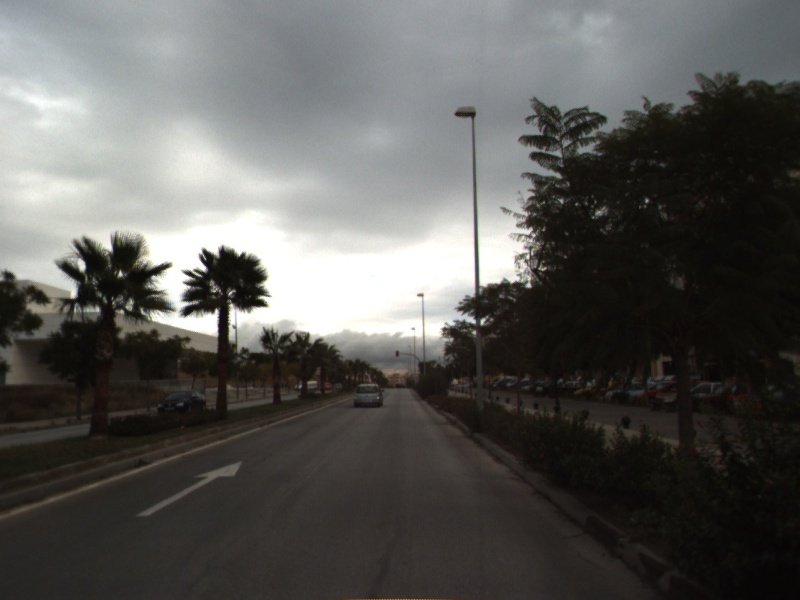STRAIGHT: (135, 459, 244, 518)
